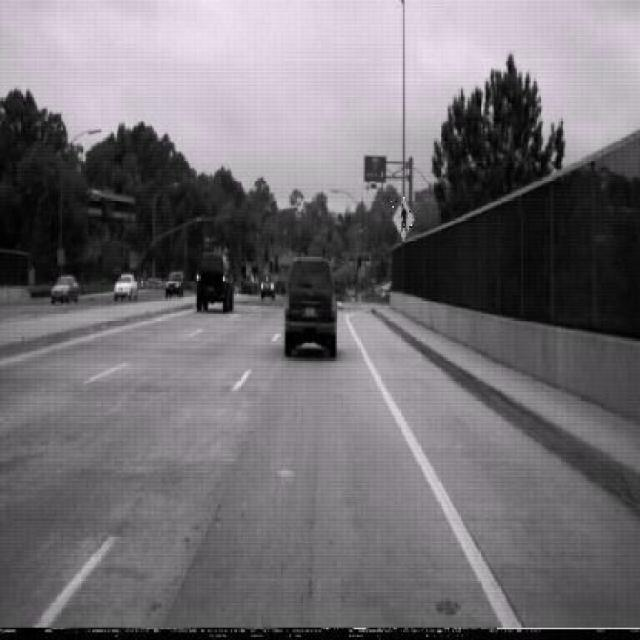pedestrianCrossing: (391, 194, 415, 241)
